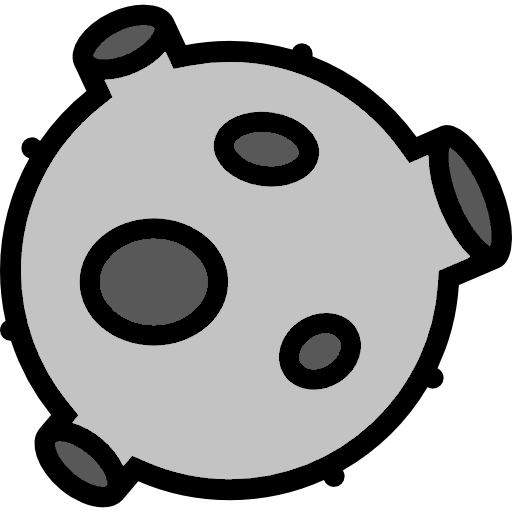asteroid: (5, 2, 512, 512)
